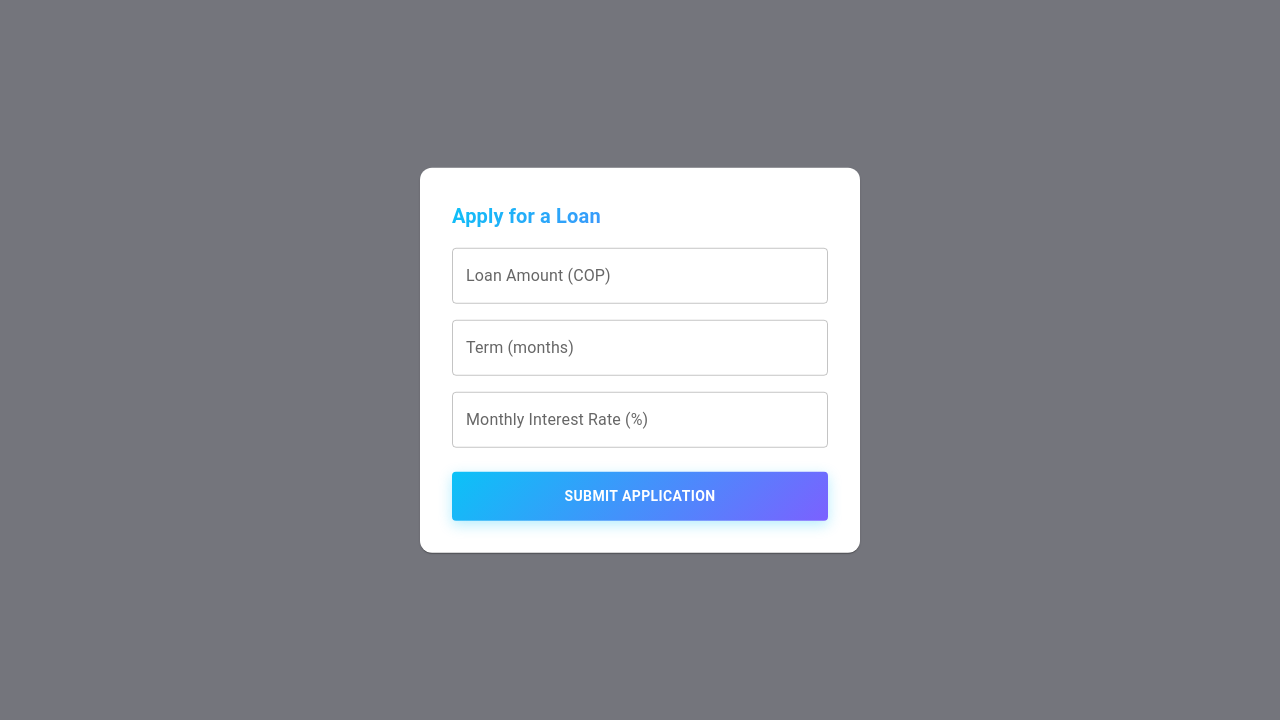
Test: ApplyForLoanModal › shows API error on submission failure
In the field with test id "apply-for-loan-modal-amount": (640, 276) [452,248,828,304], type "5000000"
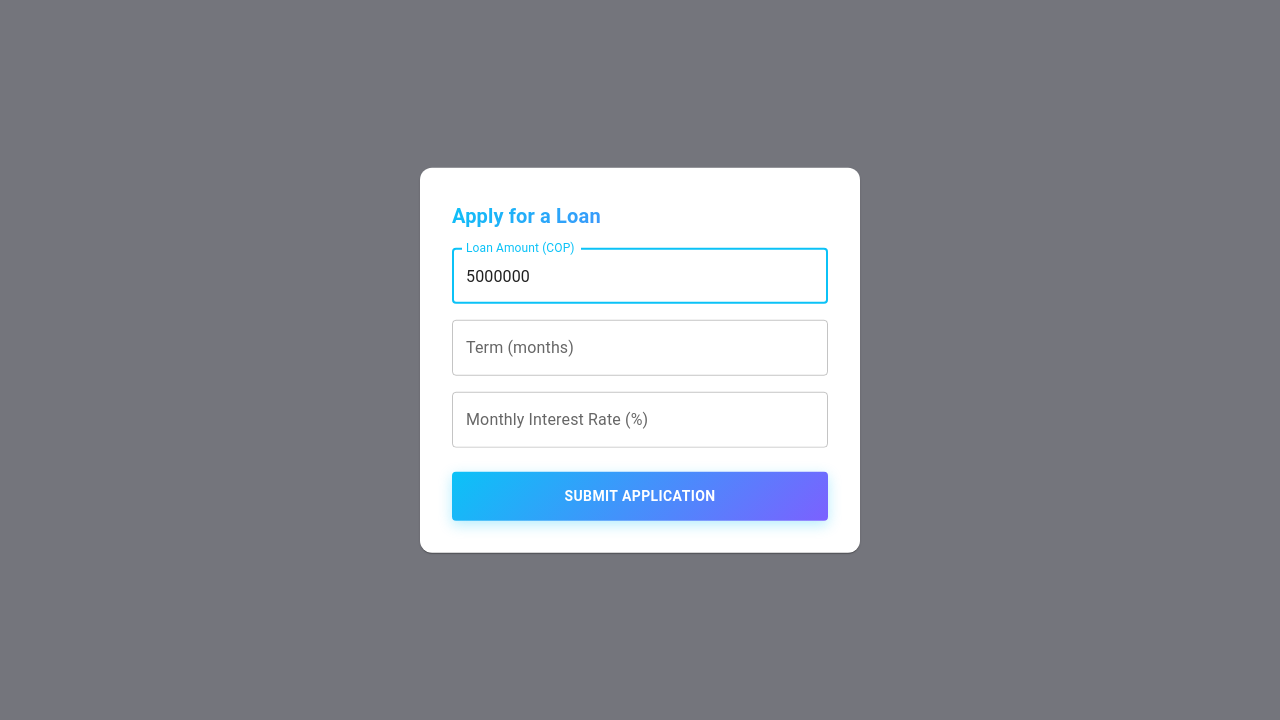
In the field with test id "apply-for-loan-modal-term-months": (640, 348) [452,320,828,376], type "24"
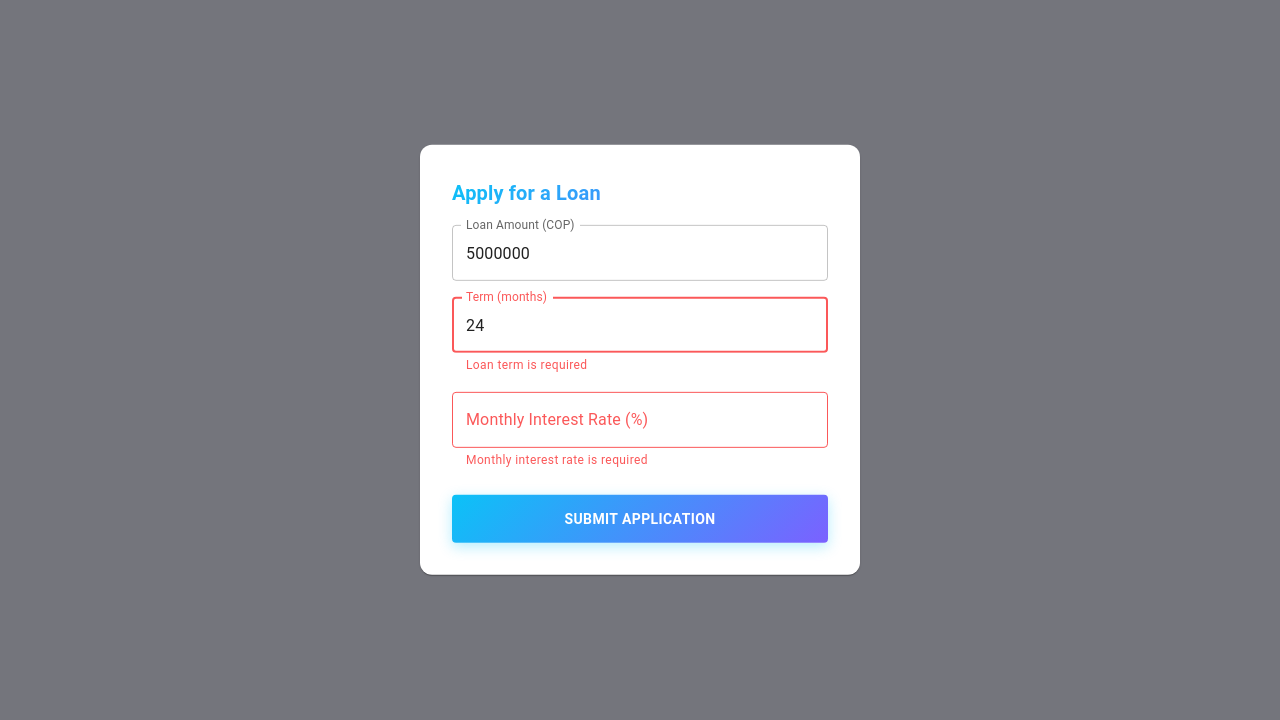
In the field with test id "apply-for-loan-modal-monthly-rate": (640, 420) [452,392,828,448], type "1.5"
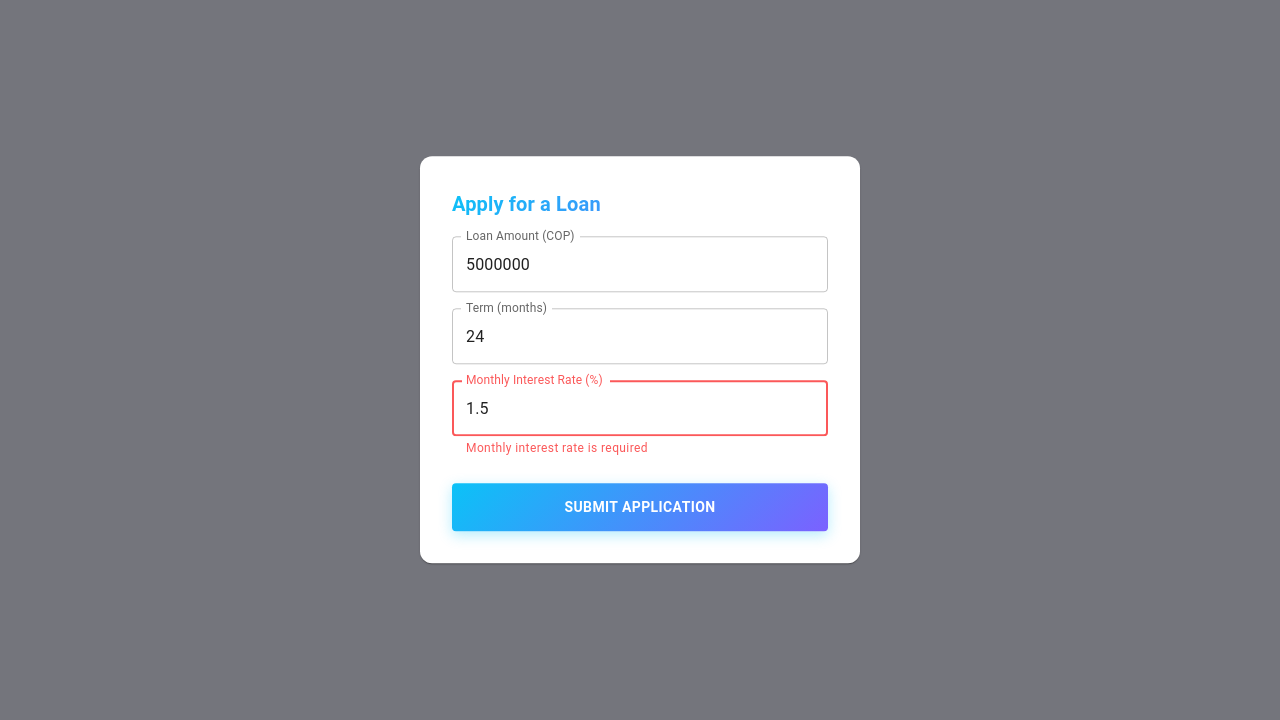
Click the button with test id "apply-for-loan-modal-submit": (640, 507) [452,483,828,532]
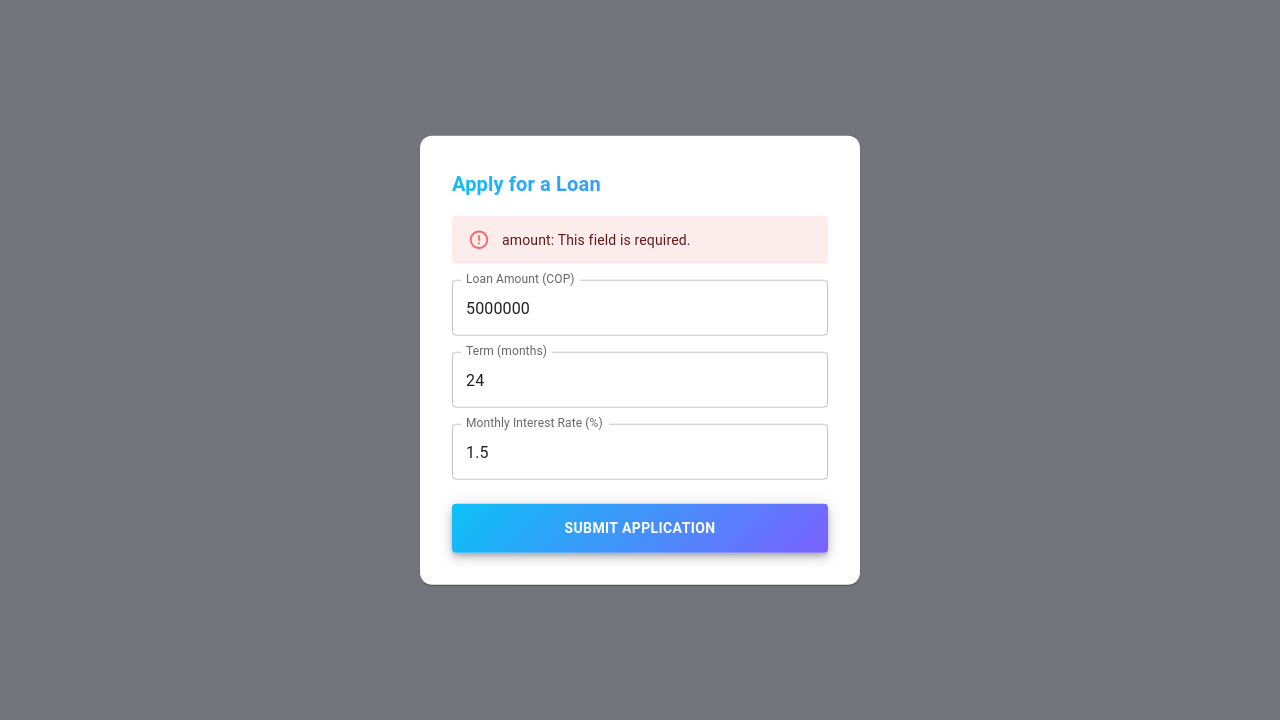
Result: the element with test id "apply-for-loan-modal-error" is shown at [452,216,828,264]
